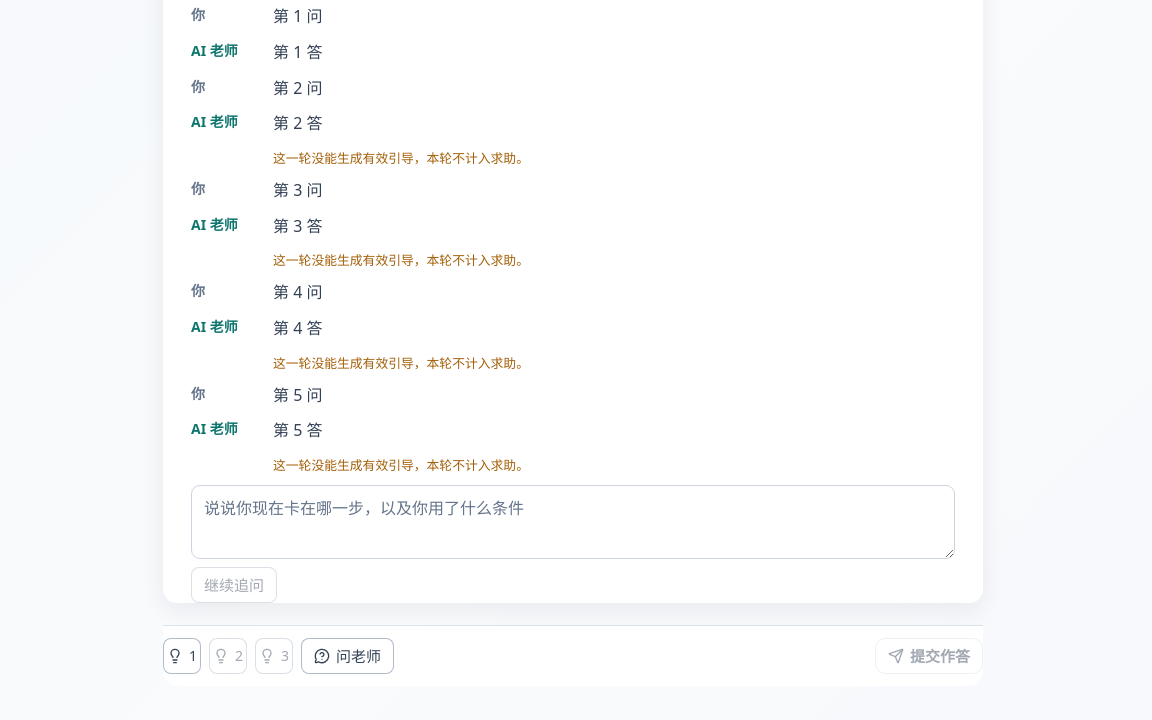
Scenario: PracticeWorkspace 多轮苏格拉底引导 (K2) › 只有真正送达的轮次计入额度，失败轮次不占用
(page scrolled)
Type "还能再问一次吗" into the text box with test id "guidance-input" at (573, 522), box x1=191 y1=485 x2=955 y2=559
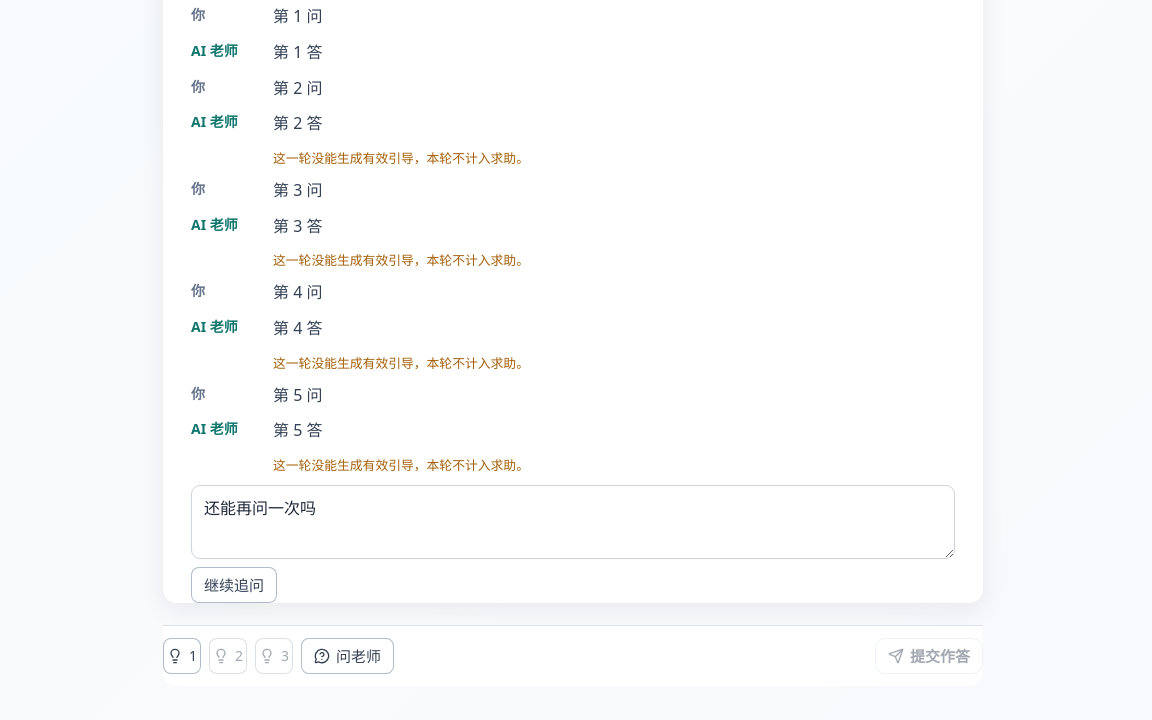
Check: the button with test id "guidance-send" is enabled, box x1=191 y1=567 x2=277 y2=603
